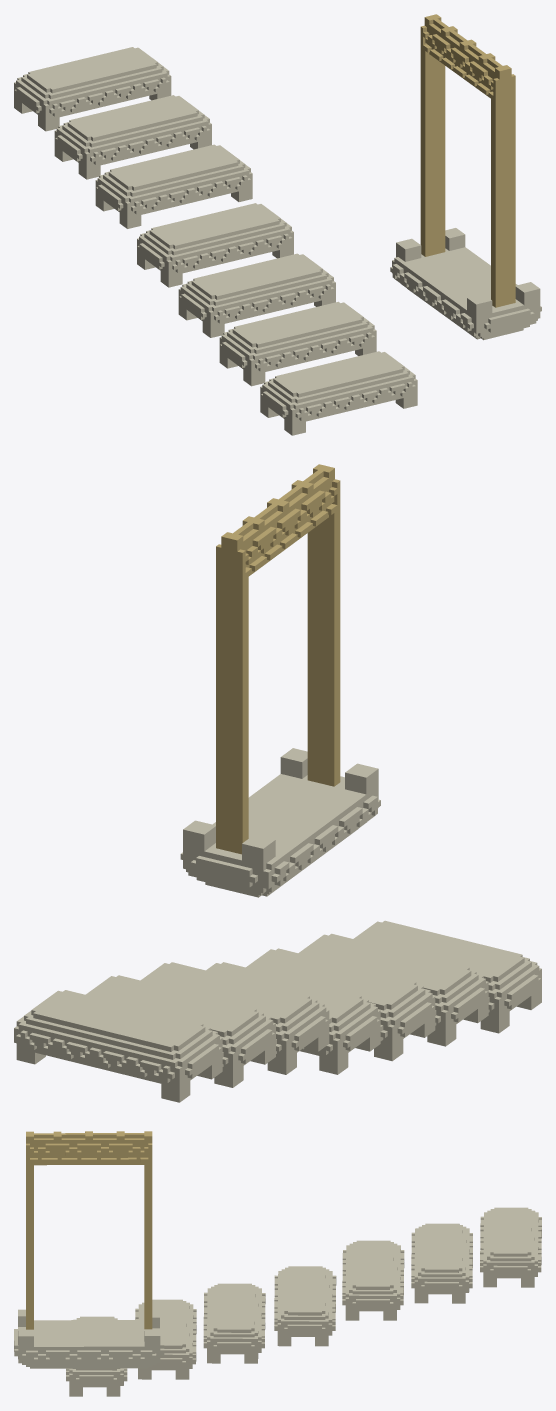
3 renders of one model, top to bottom at view 1: azimuth 30°, elevation 25°; view 2: azimuth 150°, elevation 25°; view 3: azimuth 270°, elevation 25°, orthographic. The views are drawn at different scales.
Parts seen in each view (by area): view 1: 台阶_门框003, default062, default058, default059, default063, default061, default060, default064; view 2: 台阶_门框003, default064, default063, default059, default060, default058, default062, default061; view 3: 台阶_门框003, default062, default060, default063, default061, default064, default059, default058.
Boxes of the visible parts, x1=… form: 台阶_门框003: x1=390, y1=14, x2=541, y2=340; default062: x1=95, y1=144, x2=252, y2=228; default058: x1=260, y1=351, x2=417, y2=435; default059: x1=219, y1=301, x2=376, y2=386; default063: x1=54, y1=95, x2=211, y2=179; default061: x1=137, y1=203, x2=293, y2=287; default060: x1=178, y1=253, x2=335, y2=337; default064: x1=14, y1=47, x2=171, y2=131; 台阶_门框003: x1=180, y1=464, x2=380, y2=897; default064: x1=14, y1=990, x2=222, y2=1102; default063: x1=85, y1=975, x2=275, y2=1087; default059: x1=298, y1=933, x2=488, y2=1046; default060: x1=246, y1=948, x2=435, y2=1061; default058: x1=353, y1=920, x2=541, y2=1033; default062: x1=140, y1=962, x2=329, y2=1074; default061: x1=206, y1=962, x2=380, y2=1074; 台阶_门框003: x1=14, y1=1131, x2=164, y2=1368; default062: x1=342, y1=1240, x2=404, y2=1320; default060: x1=203, y1=1283, x2=265, y2=1363; default063: x1=411, y1=1223, x2=472, y2=1303; default061: x1=274, y1=1266, x2=336, y2=1346; default064: x1=480, y1=1207, x2=541, y2=1287; default059: x1=135, y1=1299, x2=196, y2=1379; default058: x1=66, y1=1316, x2=127, y2=1396.
Size of the model in its own units: 29.89 by 42.44 by 70.4.
